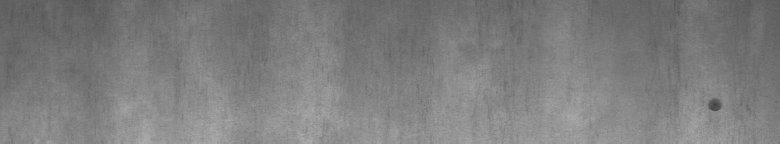fi: (702, 92, 727, 116)
